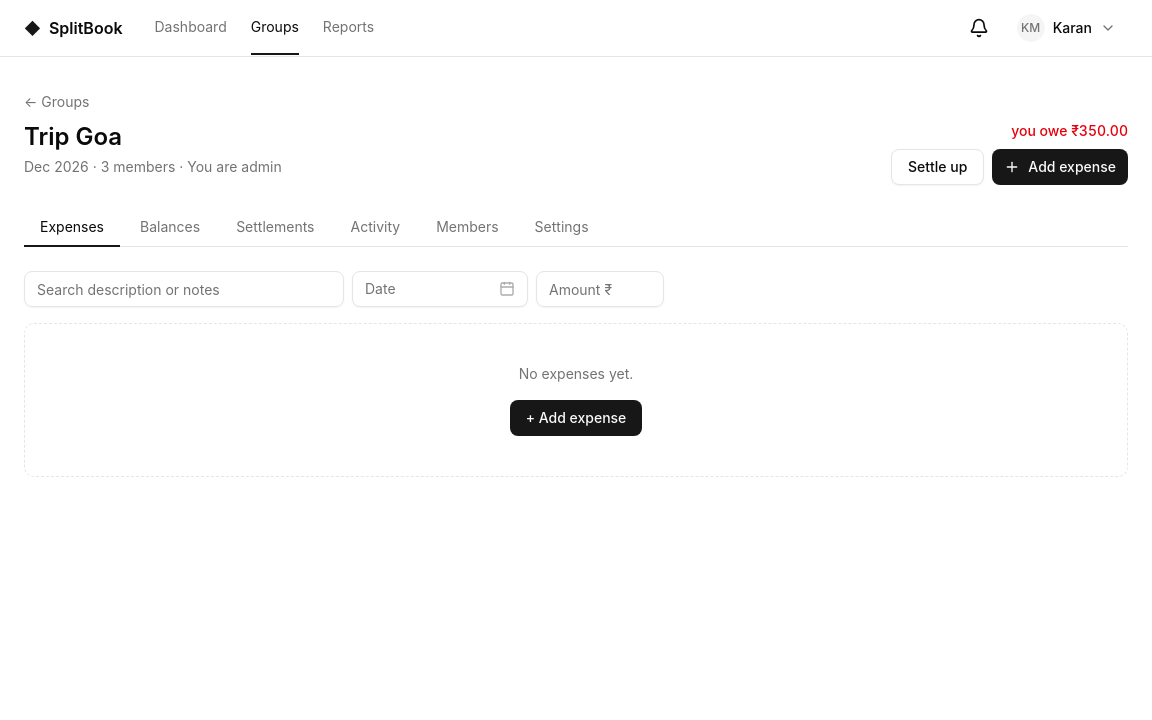
Test case: §10–§11 balances and settle up › header Settle up prefills the largest debt
Step 1. Click the button "Settle up" → (938, 167), box [891, 149, 984, 185]
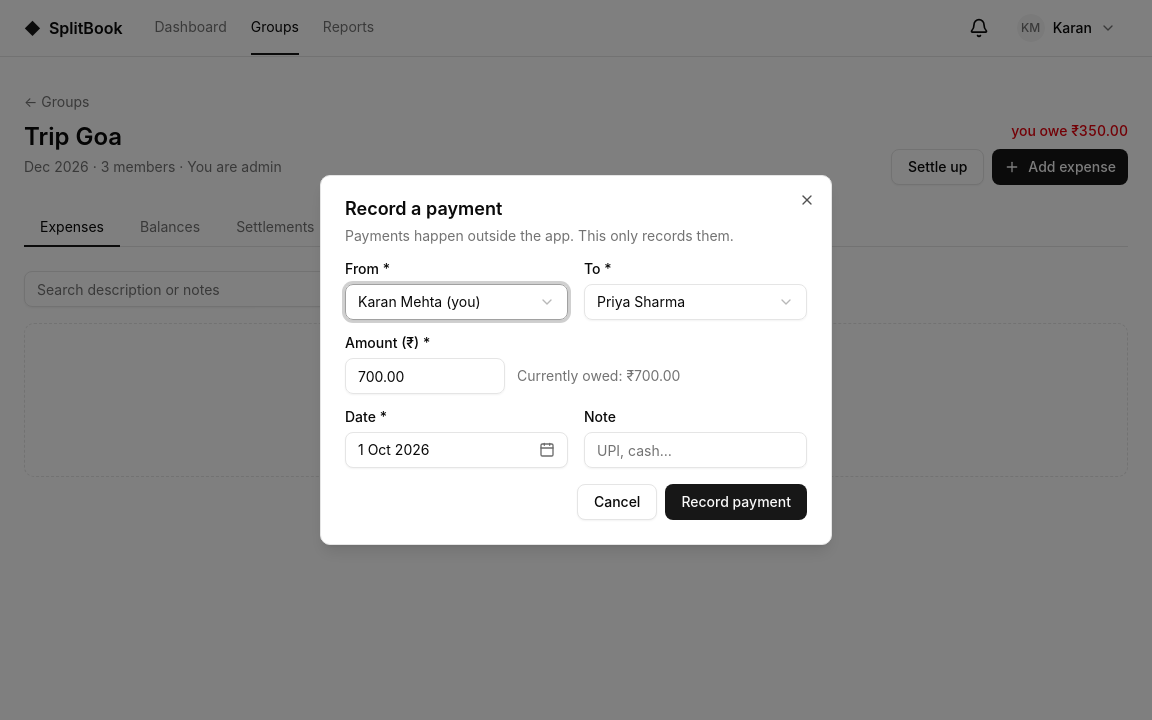
Expected: the field labelled "Amount (₹) *" holds "700.00", [345, 358, 505, 394]
